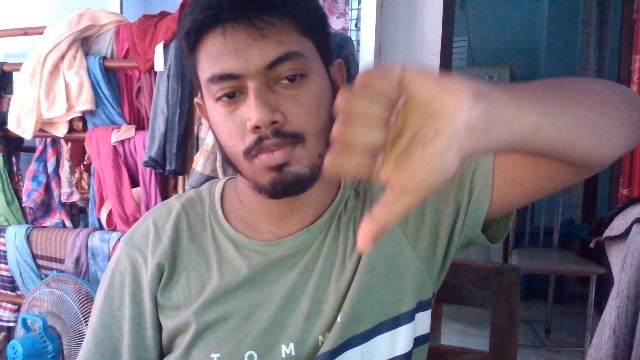no: (329, 58, 484, 258)
